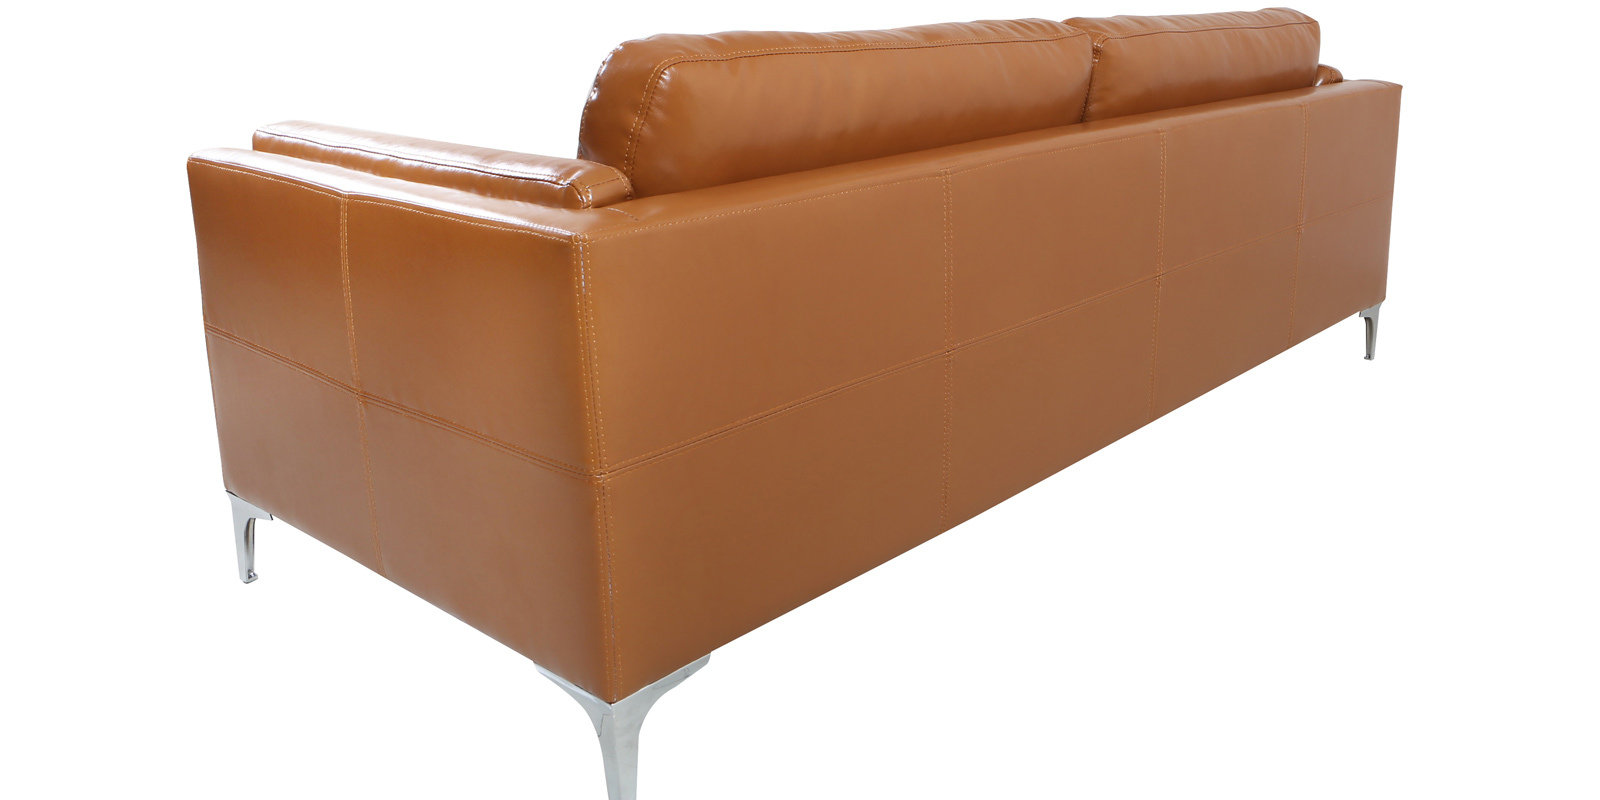Forma Three Seater Sofa in Camel Colour by Zofa: (160, 10, 1370, 800)
